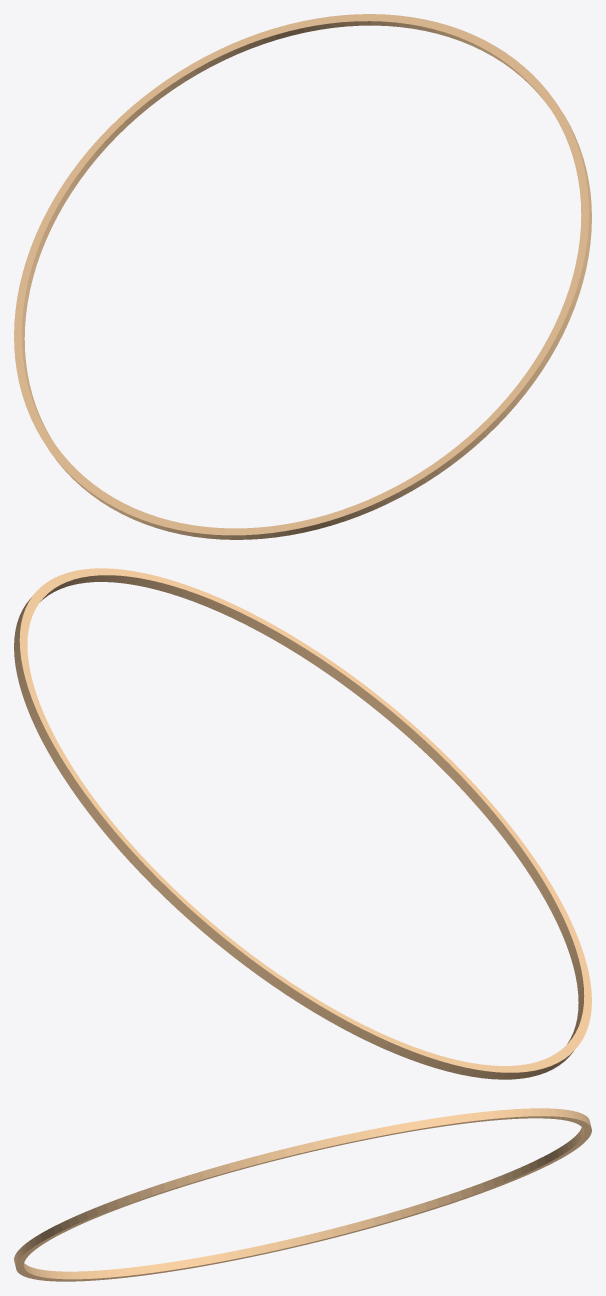
The model's file is ring_small_0.obj.
3 renders of one model, top to bottom at view 1: azimuth 30°, elevation 25°; view 2: azimuth 150°, elevation 25°; view 3: azimuth 270°, elevation 25°, orthographic. The views are drawn at different scales.
Bounding box in the file's own units: 1.47 × 1.05 × 1.7.
